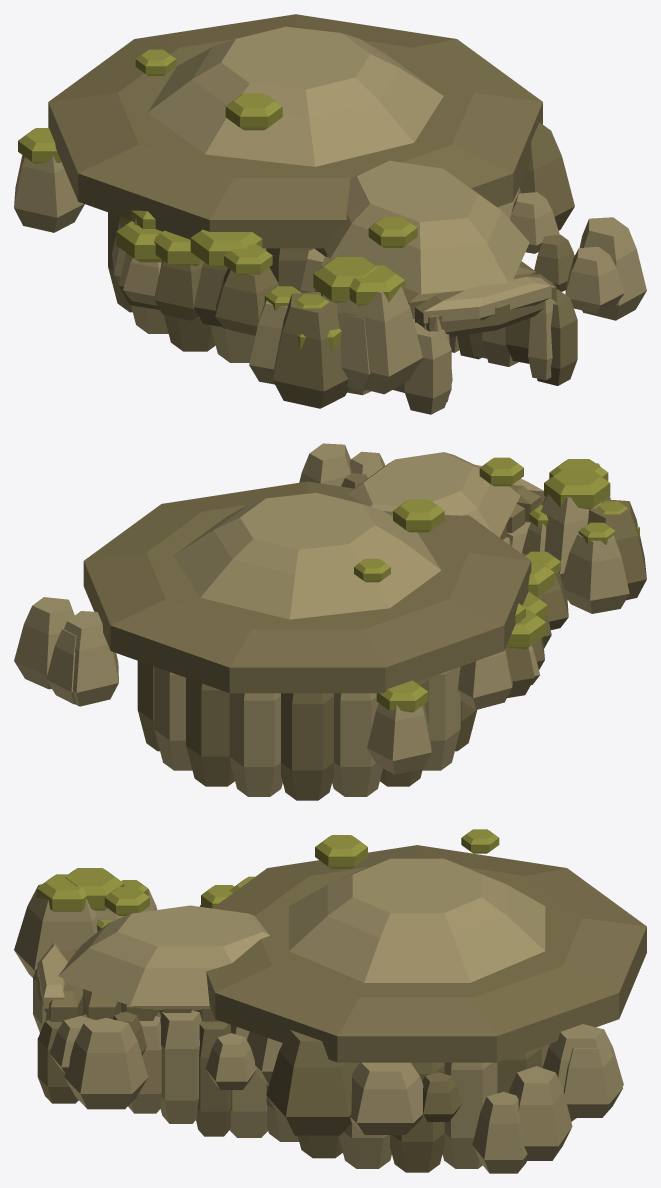
File: cave_steppe.glb
The picture shows the model from 3 angles, top to bottom: view 1: azimuth 30°, elevation 25°; view 2: azimuth 150°, elevation 25°; view 3: azimuth 270°, elevation 25°; orthographic projection. The views are drawn at different scales.
Parts seen in each view (by area): view 1: cave_steppe; view 2: cave_steppe; view 3: cave_steppe.
Boxes of the visible parts, box(x1,y1,x2,y2) form: cave_steppe: box(14, 14, 646, 414); cave_steppe: box(14, 443, 646, 800); cave_steppe: box(14, 829, 646, 1173).
Size of the model in its own units: 40.33 by 19.83 by 50.2.
